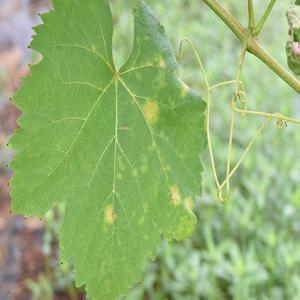Folha: (6, 0, 208, 298)
Fungo: (285, 3, 299, 59), (142, 98, 159, 124), (285, 3, 299, 30), (27, 46, 43, 66), (169, 184, 181, 206), (183, 195, 194, 214), (104, 204, 114, 224), (292, 40, 300, 56), (119, 126, 130, 131)
